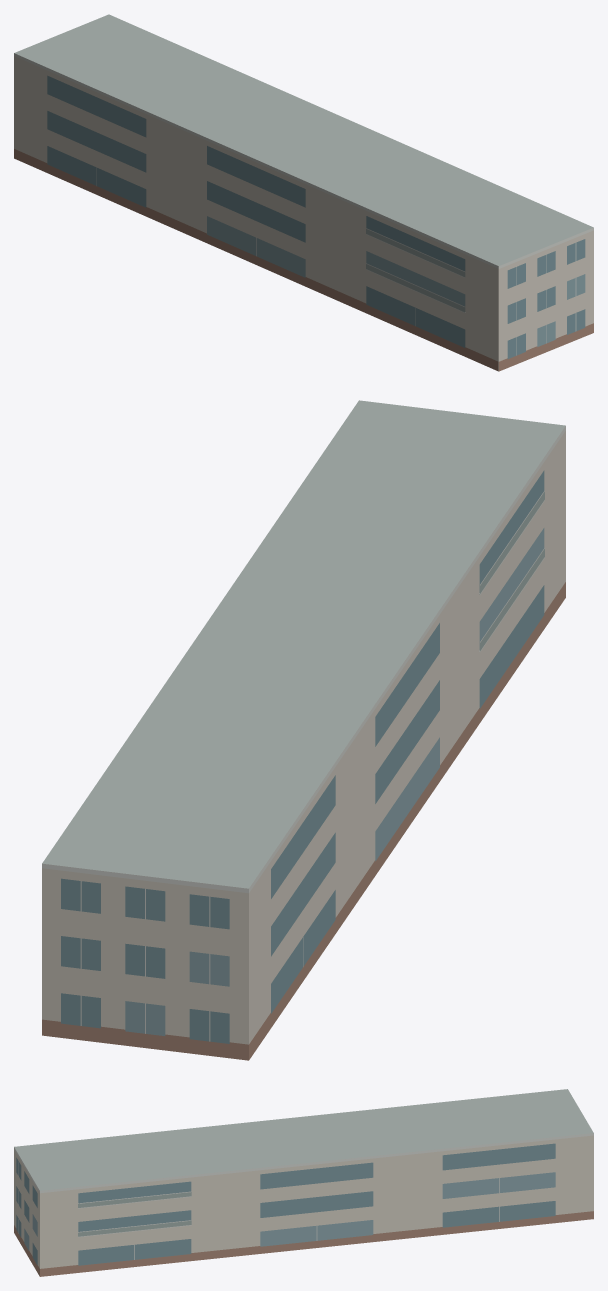
File: survey-upis-32470413.glb
The picture shows the model from 3 angles, top to bottom: view 1: azimuth 30°, elevation 25°; view 2: azimuth 150°, elevation 25°; view 3: azimuth 270°, elevation 25°; orthographic projection. The views are drawn at different scales.
Parts seen in each view (by area): view 1: survey-upis-32470413.tmp; view 2: survey-upis-32470413.tmp; view 3: survey-upis-32470413.tmp.
Boxes of the visible parts, x1,y1,x2,y2 form: survey-upis-32470413.tmp: (14, 14, 593, 371); survey-upis-32470413.tmp: (42, 400, 565, 1060); survey-upis-32470413.tmp: (14, 1089, 593, 1276).
Size of the model in its own units: 23.29 by 9.15 by 55.97.
